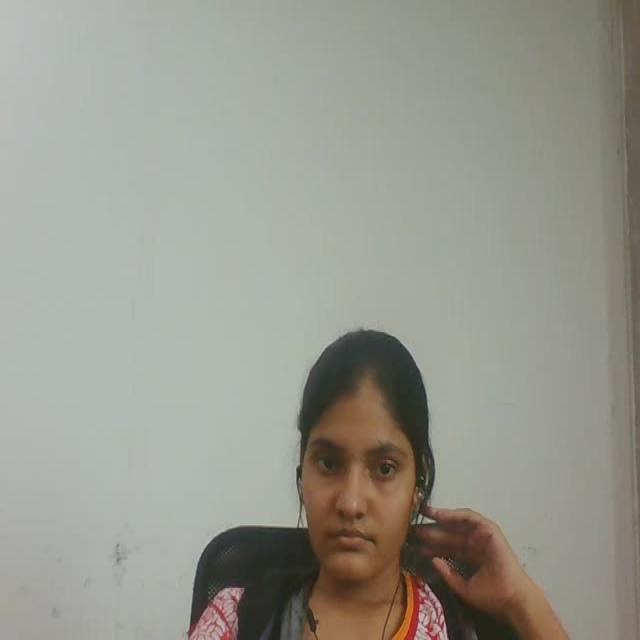Bored: (276, 306, 440, 596)
